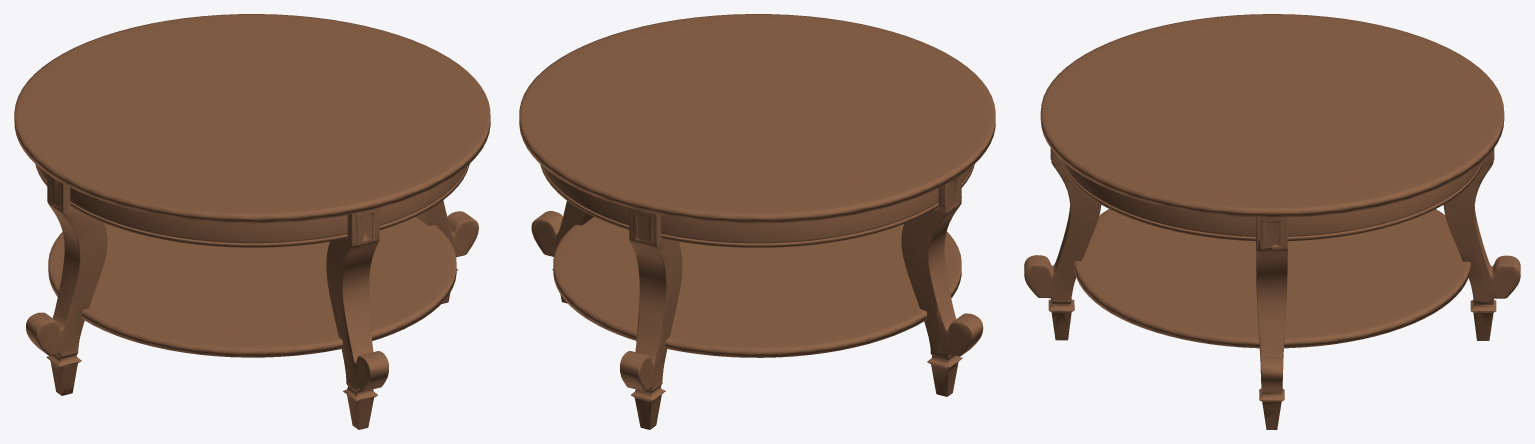
File: milton.fbx
3 renders of one model, left to right at view 1: azimuth 30°, elevation 25°; view 2: azimuth 150°, elevation 25°; view 3: azimuth 270°, elevation 25°, orthographic. The views are drawn at different scales.
Parts seen in each view (by area): view 1: Component1; view 2: Component1; view 3: Component1.
Part boxes in pixels (x1=…): Component1: x1=14, y1=14, x2=490, y2=429; Component1: x1=519, y1=14, x2=995, y2=429; Component1: x1=1024, y1=14, x2=1520, y2=429.
Bounding box in the file's own units: 37.46 × 18.97 × 37.46.
